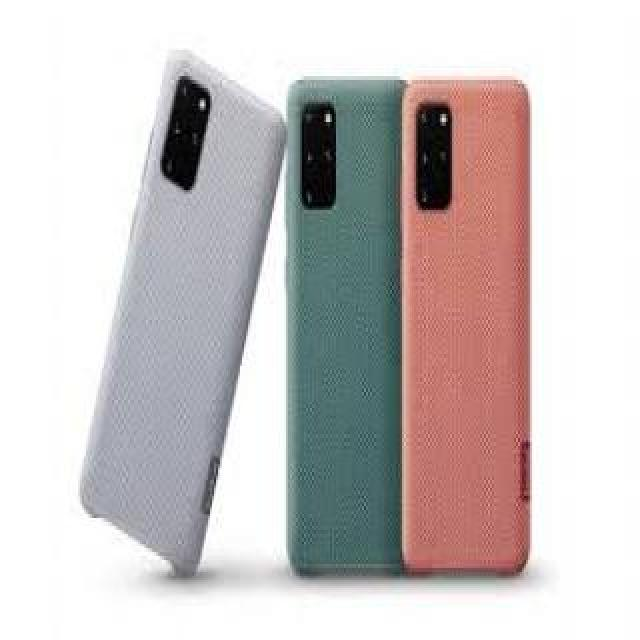smart phone: (48, 39, 277, 594), (402, 66, 542, 582), (283, 75, 397, 580)
